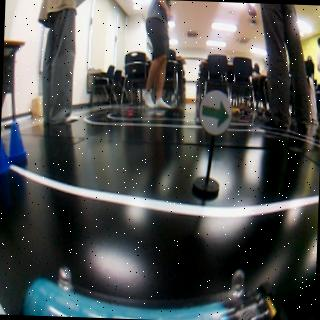right: (197, 89, 229, 134)
